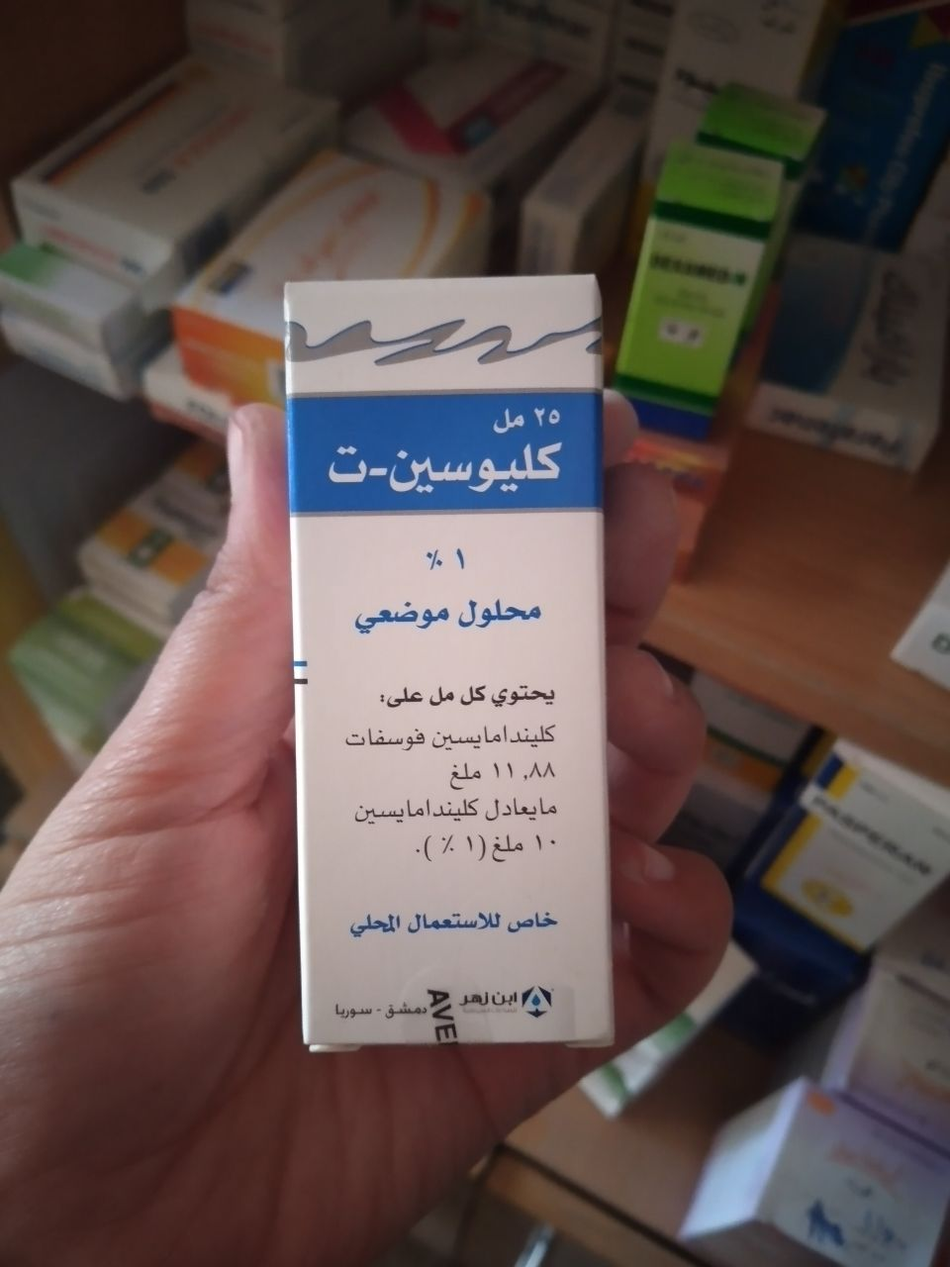Medicine: (261, 254, 637, 1069)
